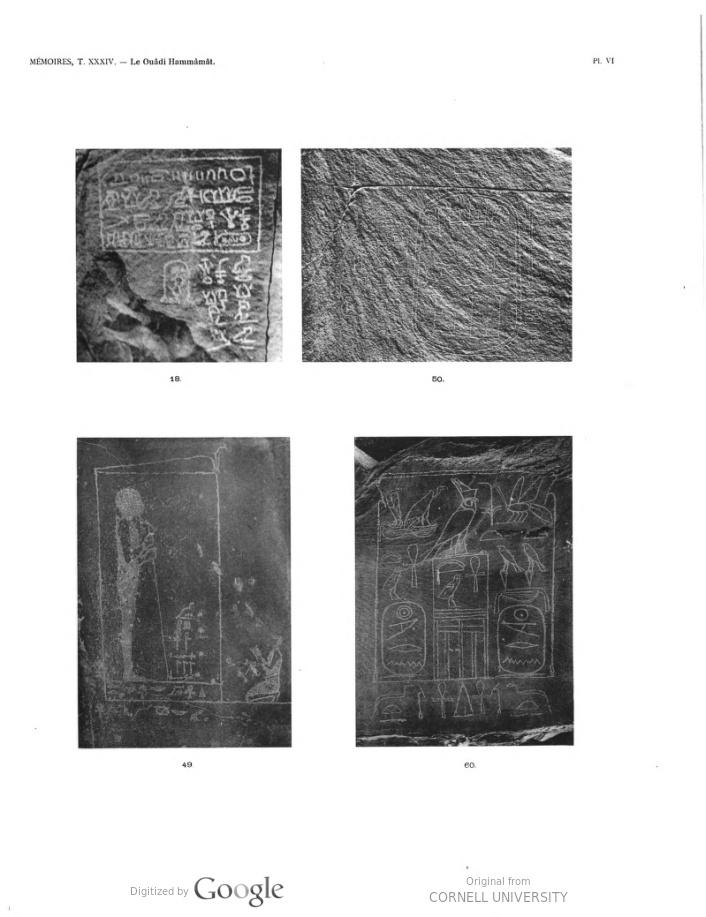circle: (411, 179, 531, 368), (377, 589, 439, 694), (491, 595, 547, 686), (195, 228, 262, 261), (154, 263, 198, 309)
